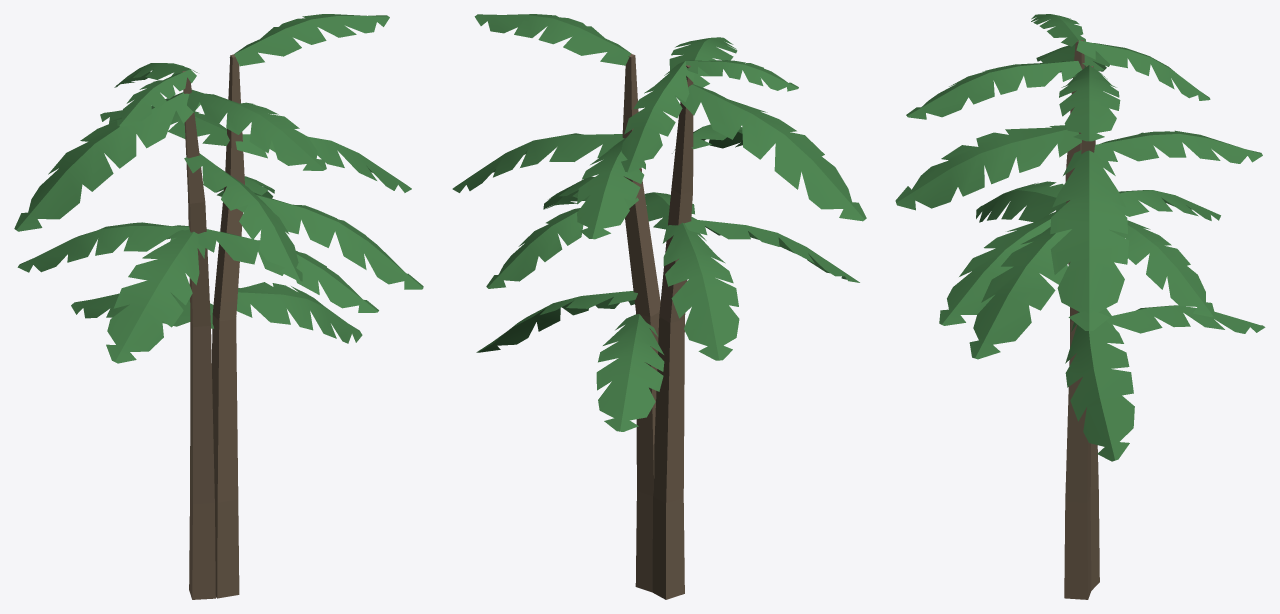
Rendered from tree 2.glb.
3 views of the same model, side by side, from view 1: azimuth 30°, elevation 25°; view 2: azimuth 150°, elevation 25°; view 3: azimuth 270°, elevation 25° (orthographic).
Parts seen in each view (by area): view 1: Plane.015_leaves2_0, Plane.015_tree_trunk_0; view 2: Plane.015_leaves2_0, Plane.015_tree_trunk_0; view 3: Plane.015_leaves2_0, Plane.015_tree_trunk_0.
Boxes of the visible parts, x1,y1,x2,y2 form: Plane.015_leaves2_0: [14, 14, 423, 363]; Plane.015_tree_trunk_0: [182, 54, 244, 599]; Plane.015_leaves2_0: [452, 14, 866, 431]; Plane.015_tree_trunk_0: [622, 53, 693, 599]; Plane.015_leaves2_0: [895, 14, 1265, 461]; Plane.015_tree_trunk_0: [1064, 40, 1099, 599].
Size of the model in its own units: 2.25 by 2.92 by 1.77.
